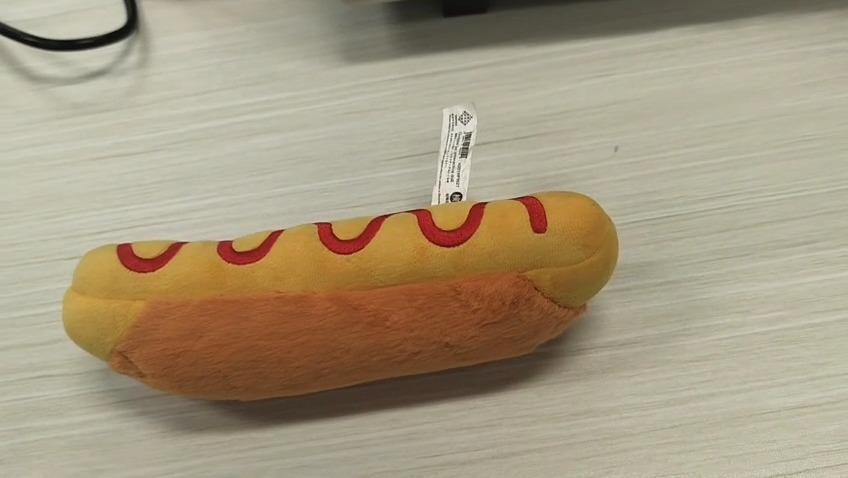hotdog: (61, 187, 619, 403)
